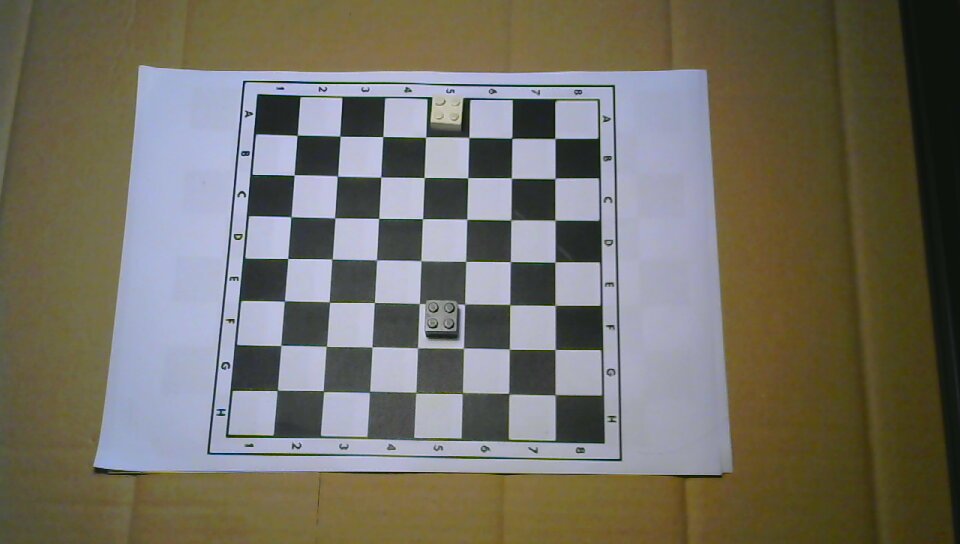bp: (424, 298, 460, 339)
wp: (429, 93, 465, 132)
